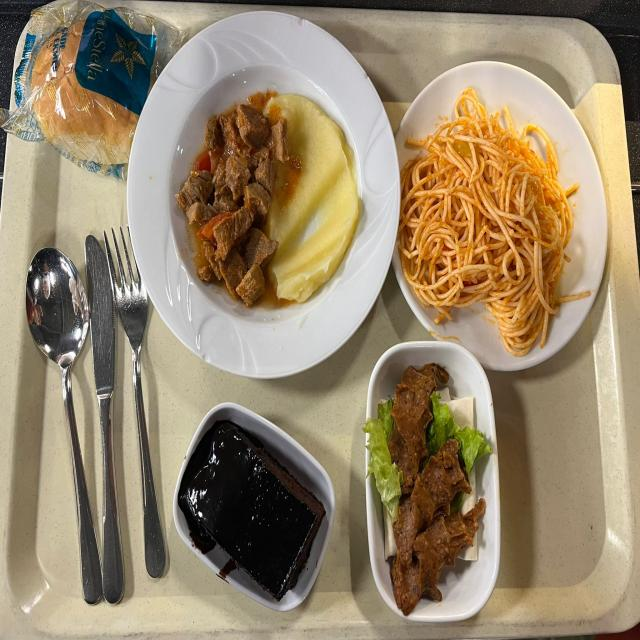ana_yemek: (171, 64, 363, 345), (398, 92, 593, 334)
yan_yemek: (172, 400, 330, 609), (369, 366, 484, 601)
